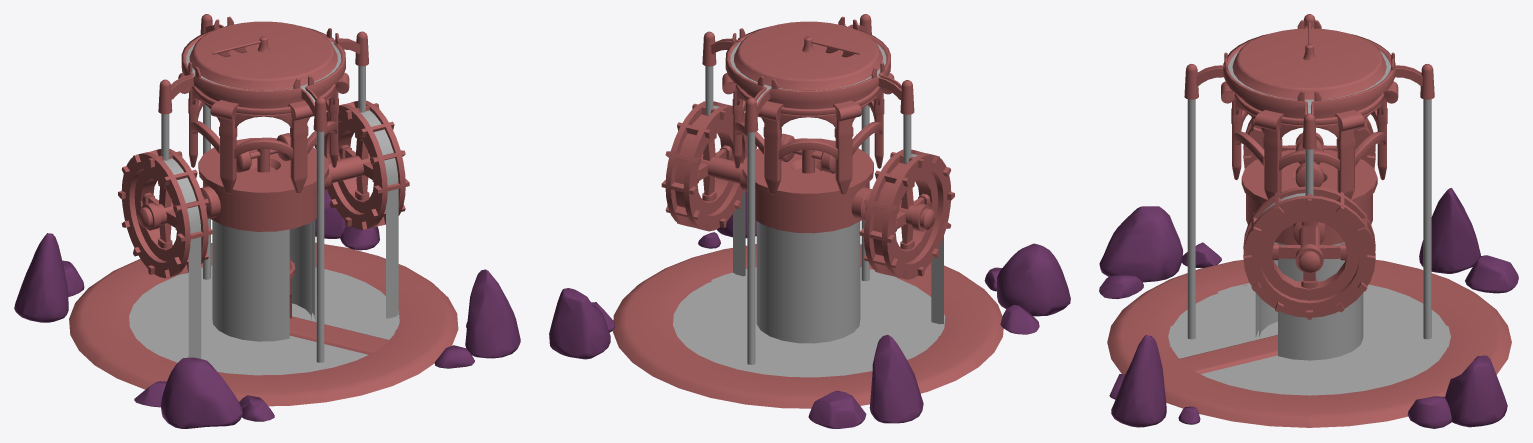
File: SM_StoneBuilding_Resource_Mill(2).fbx
The picture shows the model from 3 angles, left to right: view 1: azimuth 30°, elevation 25°; view 2: azimuth 150°, elevation 25°; view 3: azimuth 270°, elevation 25°; orthographic projection. The views are drawn at different scales.
Parts seen in each view (by area): view 1: Mill_02_Low8; view 2: Mill_02_Low8; view 3: Mill_02_Low8.
Part boxes in pixels (x1,y1,x2,y2): Mill_02_Low8: (14,14,520,428); Mill_02_Low8: (549,14,1070,428); Mill_02_Low8: (1099,14,1518,428).
Size of the model in its own units: 730 by 570 by 724.
